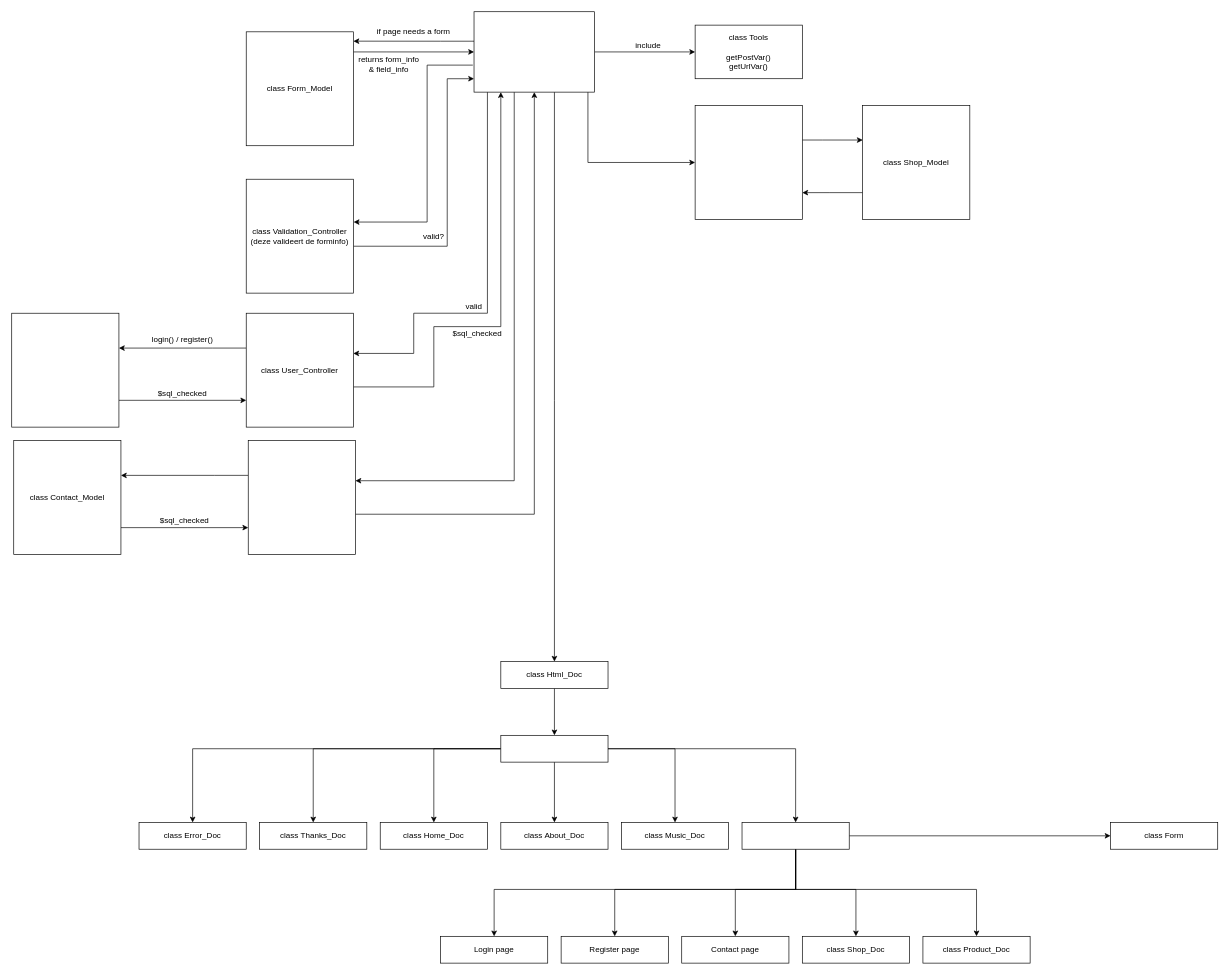
The diagram is 1229 pixels wide and 975 high, and some of its shapes have lost their labels. Here are the shapes that lost their labels. From the top down, the centre of each, then its label:
the point at 534,51: class Page_Controller getRequestedPage() validateRequest() showResponsePage()
the point at 748,162: class Shop_Controller
the point at 65,370: class User_Model
the point at 301,497: class Contact_Controller
the point at 554,748: class Basic_Doc
the point at 795,835: class Form_Doc
